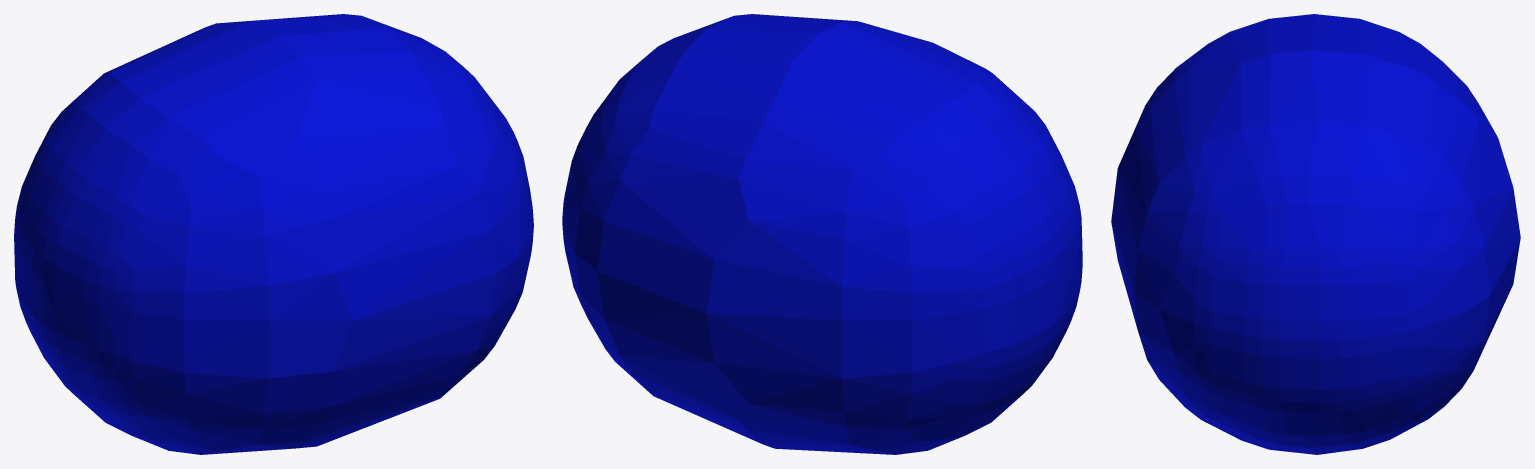
The model's file is COL_hollie_real_lef_collision.dae.
3 renders of one model, left to right at view 1: azimuth 30°, elevation 25°; view 2: azimuth 150°, elevation 25°; view 3: azimuth 270°, elevation 25°, orthographic. The views are drawn at different scales.
Visible parts, largest first — view 1: COL_hollie_real_lef_collision; view 2: COL_hollie_real_lef_collision; view 3: COL_hollie_real_lef_collision.
Boxes of the visible parts, left/top/right/bottom form: COL_hollie_real_lef_collision: left=14, top=14, right=533, bottom=454; COL_hollie_real_lef_collision: left=562, top=14, right=1082, bottom=454; COL_hollie_real_lef_collision: left=1111, top=14, right=1520, bottom=454.
Size of the model in its own units: 0.0697 by 0.0567 by 0.0571.
